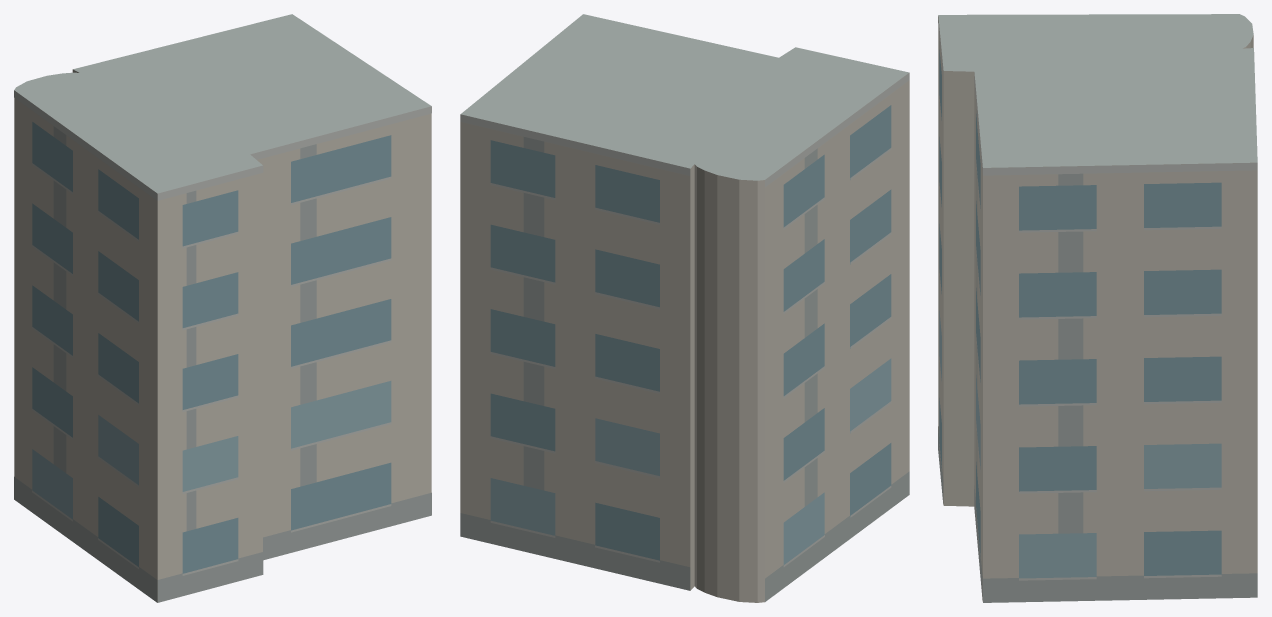
Rendered from survey-upis-32799718.glb.
3 renders of one model, left to right at view 1: azimuth 30°, elevation 25°; view 2: azimuth 150°, elevation 25°; view 3: azimuth 270°, elevation 25°, orthographic. The views are drawn at different scales.
Visible parts, largest first — view 1: survey-upis-32799718.tmp; view 2: survey-upis-32799718.tmp; view 3: survey-upis-32799718.tmp.
Part boxes in pixels (box(x1,y1,x2,y2)): survey-upis-32799718.tmp: box(14, 14, 431, 602); survey-upis-32799718.tmp: box(460, 14, 909, 602); survey-upis-32799718.tmp: box(938, 14, 1257, 602).
Bounding box in the file's own units: 10.41 × 13.7 × 9.13.
